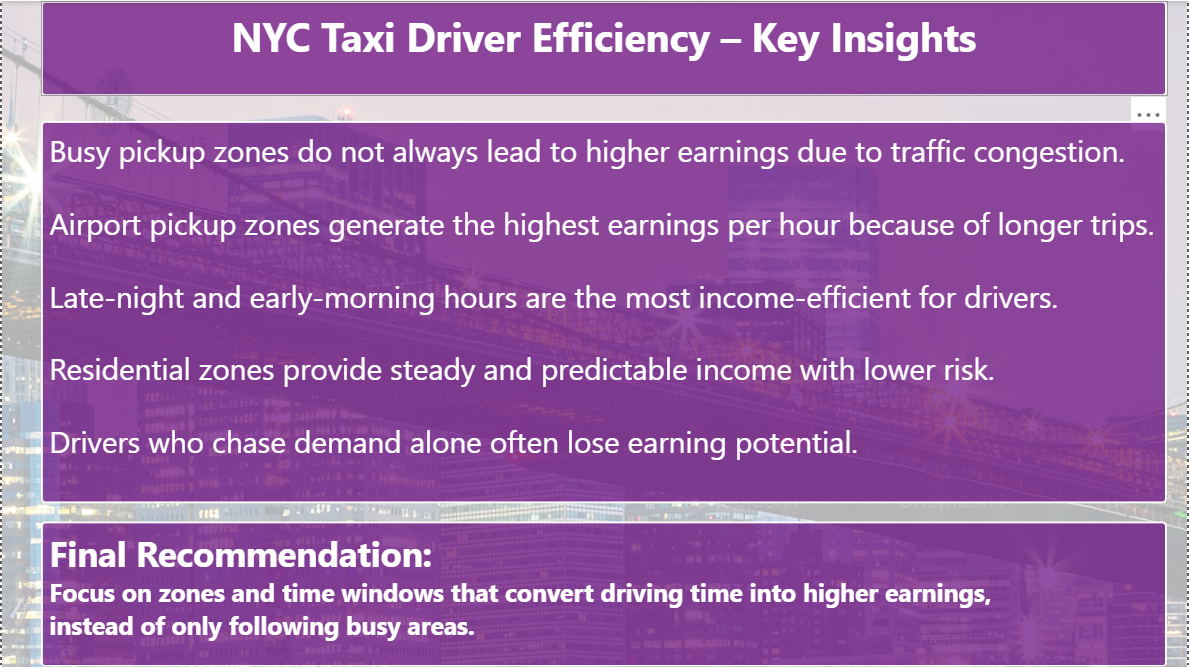

The dashboard page shown, as its layout file describes it:
{"tool":"powerbi","page":{"name":"Insight ","canvas":[1280,720],"ordinal":0},"visuals":[{"type":"textbox","box":[42.5,0,1215,102.5],"z":1},{"type":"textbox","box":[42.5,130,1215,412.5],"z":2},{"type":"textbox","box":[42.5,562.5,1215,157.5],"z":3}]}

Visuals, with their boxes in screenshot pixels (x1, y1, x2, y2), scaled from the page's 1280x720 canvas onto the 1189x667 screenshot:
textbox: rect(39, 0, 1168, 95)
textbox: rect(39, 120, 1168, 503)
textbox: rect(39, 521, 1168, 666)
